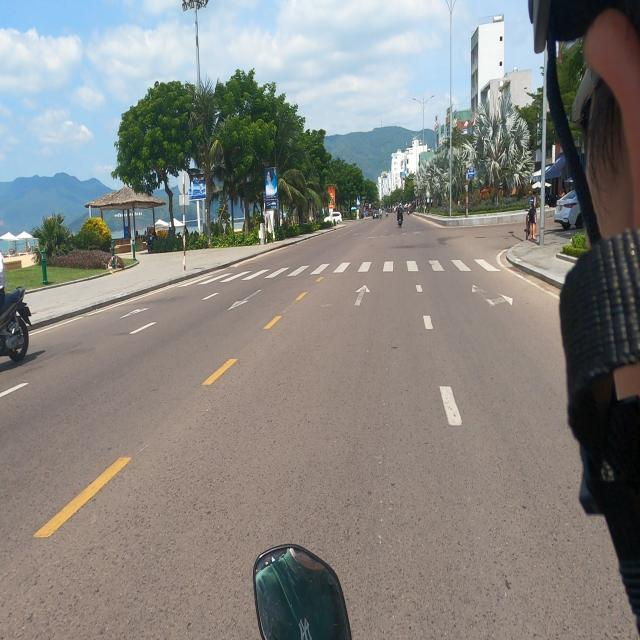walk-crossing: (174, 258, 516, 286)
